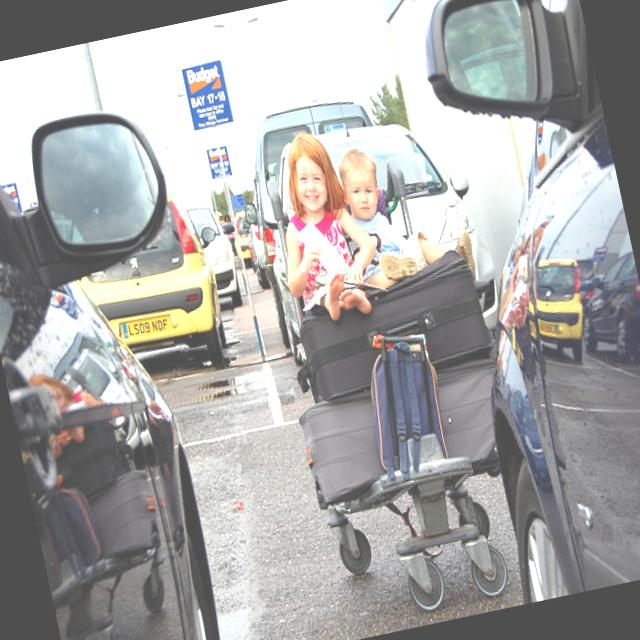Vehicle: (0, 40, 264, 640), (392, 0, 640, 558), (246, 102, 506, 368), (226, 98, 413, 345), (58, 190, 230, 392), (185, 193, 251, 314), (244, 224, 272, 294), (228, 208, 256, 270)
